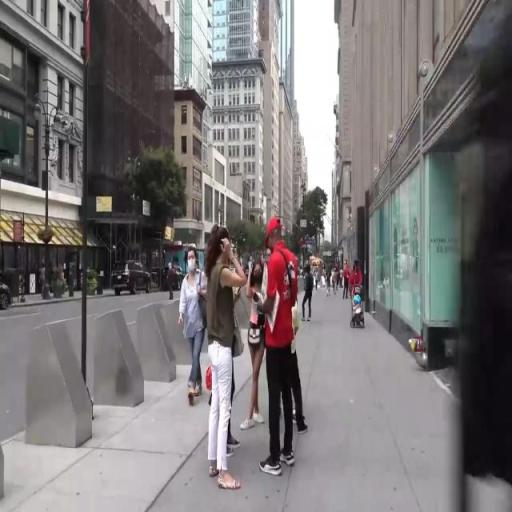person: (199, 226, 241, 493), (264, 216, 300, 481), (179, 244, 204, 403), (248, 260, 264, 429), (351, 259, 368, 333), (303, 262, 316, 333), (344, 258, 352, 306), (333, 268, 341, 299), (326, 264, 331, 300), (341, 265, 345, 288)
